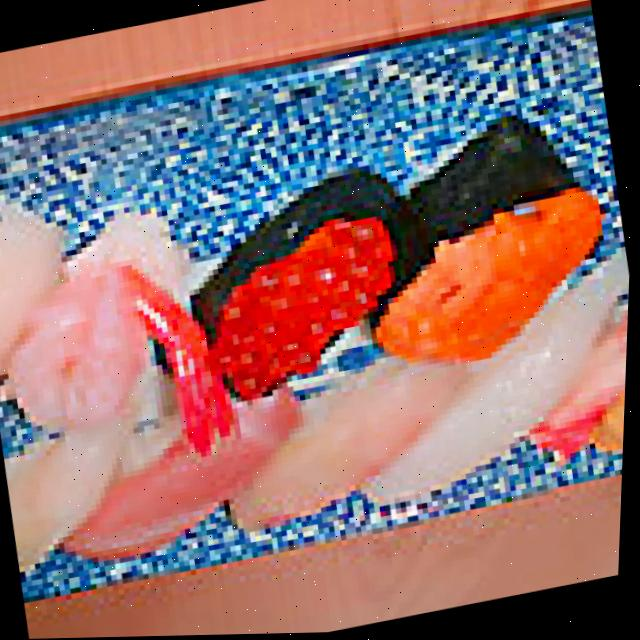寿司卷物: (0, 67, 638, 613)
